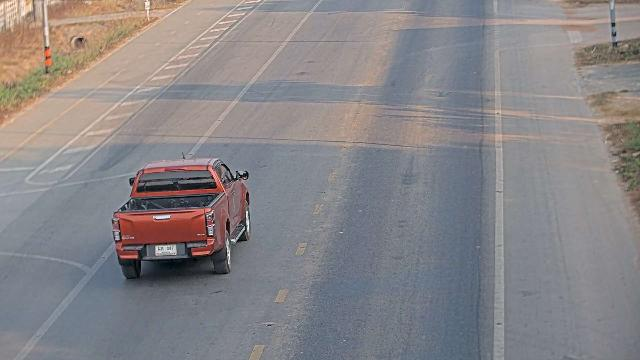pickup-truck: (110, 155, 251, 279)
